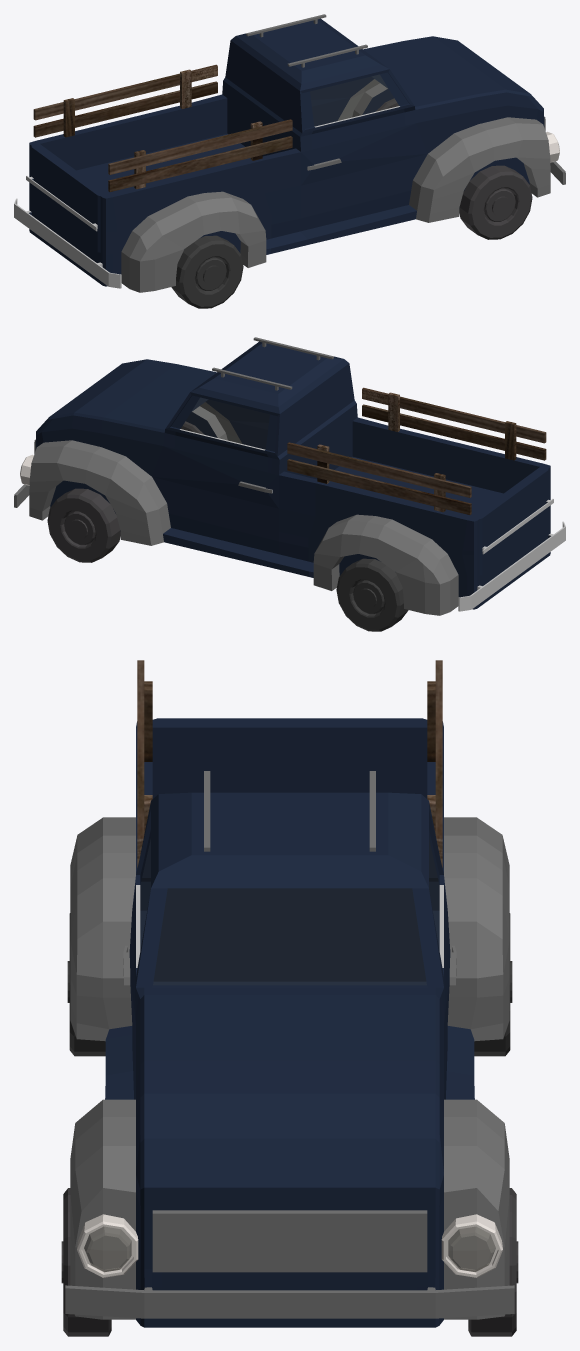
Rendered from camiong.fbx.
3 renders of one model, top to bottom at view 1: azimuth 30°, elevation 25°; view 2: azimuth 150°, elevation 25°; view 3: azimuth 270°, elevation 25°, orthographic. The views are drawn at different scales.
Visible parts, largest first — view 1: Cube, Rueda.001, Rueda; view 2: Cube, Rueda.001, Rueda; view 3: Cube, Faro, Rueda.001, Rueda.
Boxes of the visible parts, <box> form: Cube: <box>14,14,565,292</box>; Rueda.001: <box>376,98,532,239</box>; Rueda: <box>171,235,243,308</box>; Cube: <box>14,337,565,615</box>; Rueda.001: <box>47,421,203,562</box>; Rueda: <box>336,558,408,631</box>; Cube: <box>65,660,514,1327</box>; Faro: <box>77,1214,502,1277</box>; Rueda.001: <box>61,1188,518,1336</box>; Rueda: <box>67,913,512,1056</box>.
Bounding box in the file's own units: 680 × 276 × 297.
